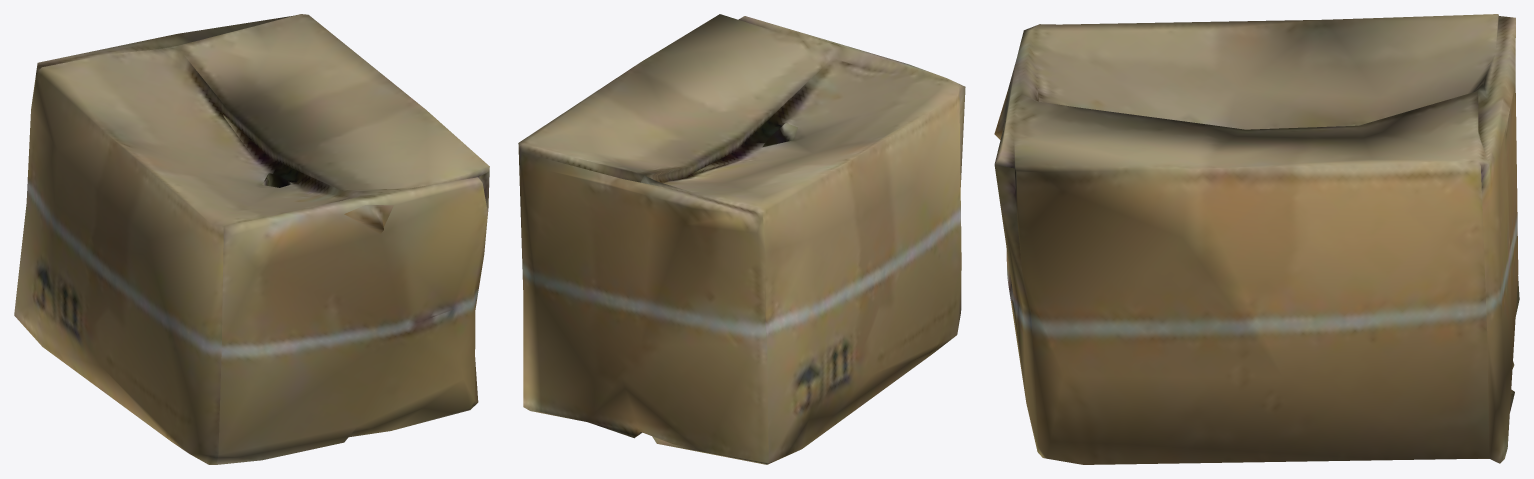
File: cardboard_box.glb
The picture shows the model from 3 angles, left to right: view 1: azimuth 30°, elevation 25°; view 2: azimuth 150°, elevation 25°; view 3: azimuth 270°, elevation 25°; orthographic projection. The views are drawn at different scales.
Visible parts, largest first — view 1: cardboard_box; view 2: cardboard_box; view 3: cardboard_box.
Part boxes in pixels (x1,y1,x2,y2): cardboard_box: (14, 14, 489, 464); cardboard_box: (518, 14, 965, 464); cardboard_box: (994, 14, 1519, 464).
Size of the model in its own units: 0.3827 by 0.3388 by 0.5152.
Materials: 1 (1 with a texture image).
